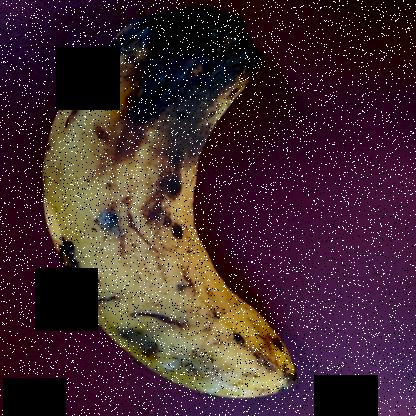rotten: (0, 0, 334, 404)
